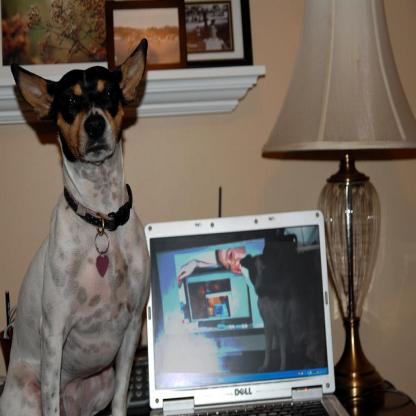board: (137, 200, 341, 416)
